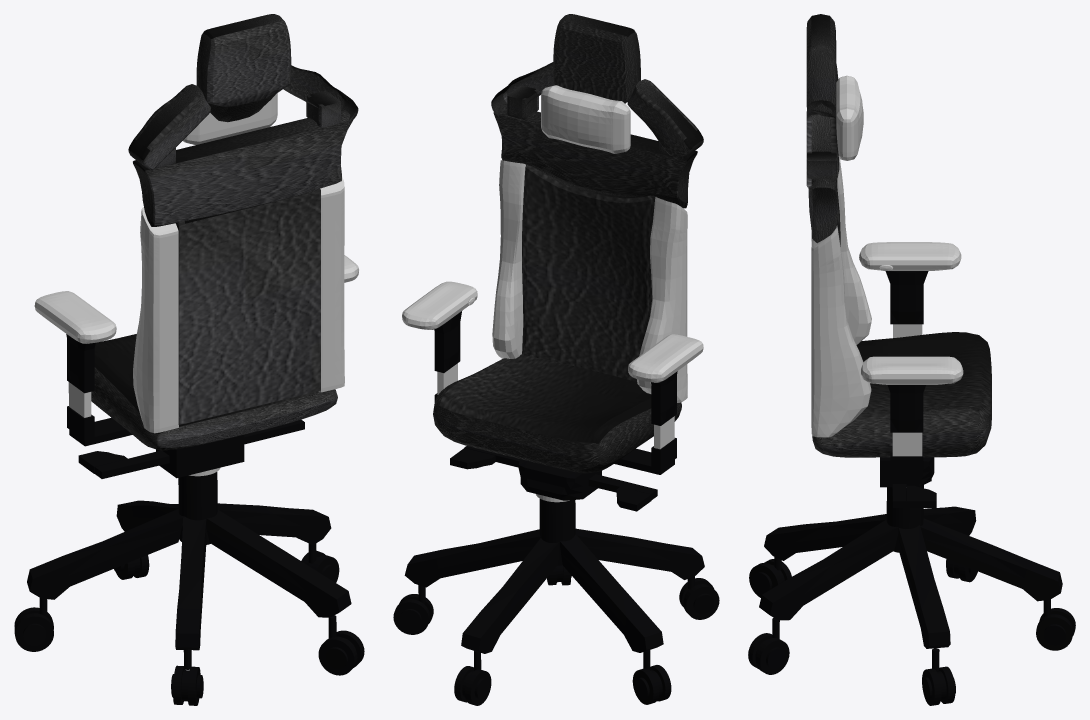
Rendered from computer-chair.dae.
3 renders of one model, left to right at view 1: azimuth 30°, elevation 25°; view 2: azimuth 150°, elevation 25°; view 3: azimuth 270°, elevation 25°, orthographic. The views are drawn at different scales.
Parts seen in each view (by area): view 1: Cube.001, Cylinder, Cube.002, Cube.006, Cylinder.004, Cube.013, Cube.014, Cube.010, Cube.008; view 2: Cube.001, Cylinder, Cube.002, Cube.013, Cylinder.004, Cube.006, Cube.010, Cube.014, Cube.008; view 3: Cylinder, Cube.001, Cube.002, Cylinder.004, Cube.010, Cube.013, Cube.006, Cube.008, Cube.014.
Part boxes in pixels (left/top/right/bottom): Cube.001: left=91, top=14, right=358, bottom=450; Cylinder: left=14, top=472, right=364, bottom=705; Cube.002: left=133, top=176, right=344, bottom=433; Cube.006: left=78, top=419, right=304, bottom=478; Cylinder.004: left=34, top=255, right=358, bottom=343; Cube.013: left=183, top=93, right=277, bottom=144; Cube.014: left=67, top=406, right=132, bottom=446; Cube.010: left=66, top=334, right=95, bottom=393; Cube.008: left=68, top=382, right=91, bottom=417; Cube.001: left=433, top=14, right=703, bottom=473; Cylinder: left=393, top=499, right=719, bottom=705; Cube.002: left=492, top=160, right=687, bottom=402; Cube.013: left=541, top=85, right=630, bottom=153; Cylinder.004: left=402, top=281, right=703, bottom=382; Cube.006: left=450, top=446, right=657, bottom=511; Cube.010: left=434, top=311, right=677, bottom=425; Cube.014: left=434, top=393, right=676, bottom=474; Cube.008: left=437, top=363, right=674, bottom=449; Cylinder: left=748, top=485, right=1075, bottom=705; Cube.001: left=806, top=14, right=991, bottom=457; Cube.002: left=811, top=158, right=871, bottom=437; Cylinder.004: left=859, top=242, right=963, bottom=384; Cube.010: left=885, top=271, right=928, bottom=432; Cube.013: left=836, top=75, right=863, bottom=160; Cube.006: left=880, top=457, right=936, bottom=507; Cube.008: left=892, top=324, right=922, bottom=456; Cube.014: left=890, top=452, right=923, bottom=483.
Size of the model in its own units: 4.58 by 4.44 by 9.15.
